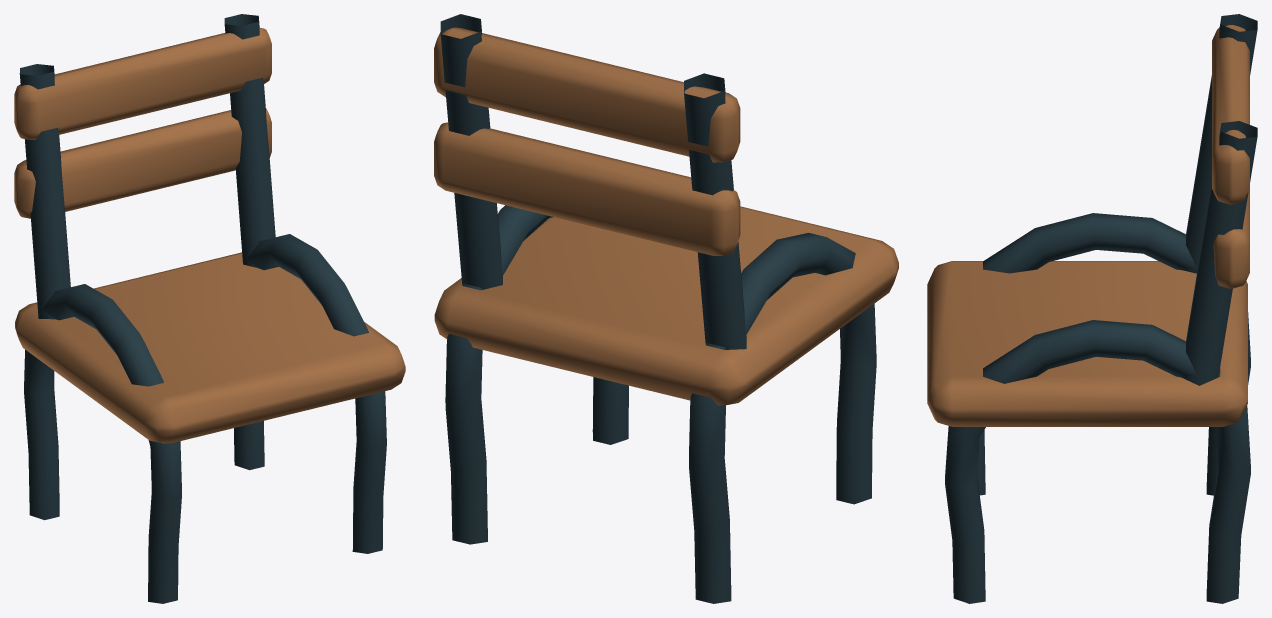
Rendered from CafeChair.fbx.
3 renders of one model, left to right at view 1: azimuth 30°, elevation 25°; view 2: azimuth 150°, elevation 25°; view 3: azimuth 270°, elevation 25°, orthographic. The views are drawn at different scales.
Visible parts, largest first — view 1: CafeChair_Wood, CafeChair_Metal; view 2: CafeChair_Wood, CafeChair_Metal; view 3: CafeChair_Wood, CafeChair_Metal.
Part boxes in pixels (x1,y1,x2,y2): CafeChair_Wood: (14,28,405,443); CafeChair_Metal: (19,14,386,603); CafeChair_Wood: (434,27,898,405); CafeChair_Metal: (440,14,876,603); CafeChair_Wood: (927,25,1249,426); CafeChair_Metal: (945,14,1257,603).
Size of the model in its own units: 0.38 by 0.6152 by 0.3914.
